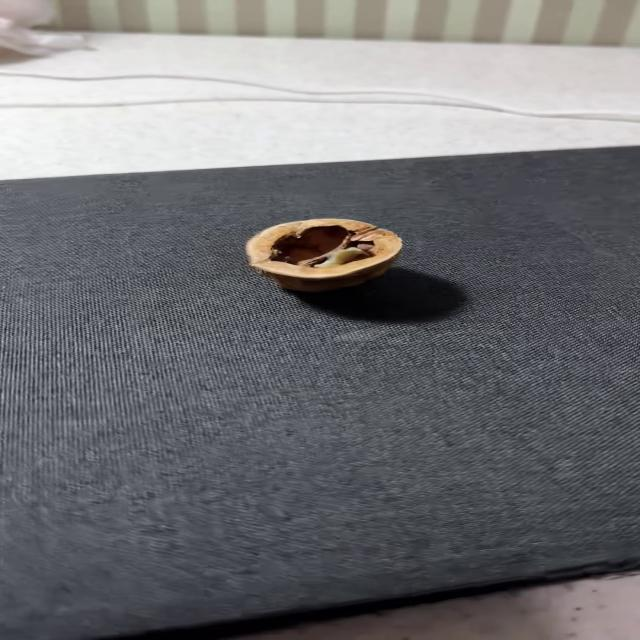nuts-bad0.5: (246, 218, 402, 292)
